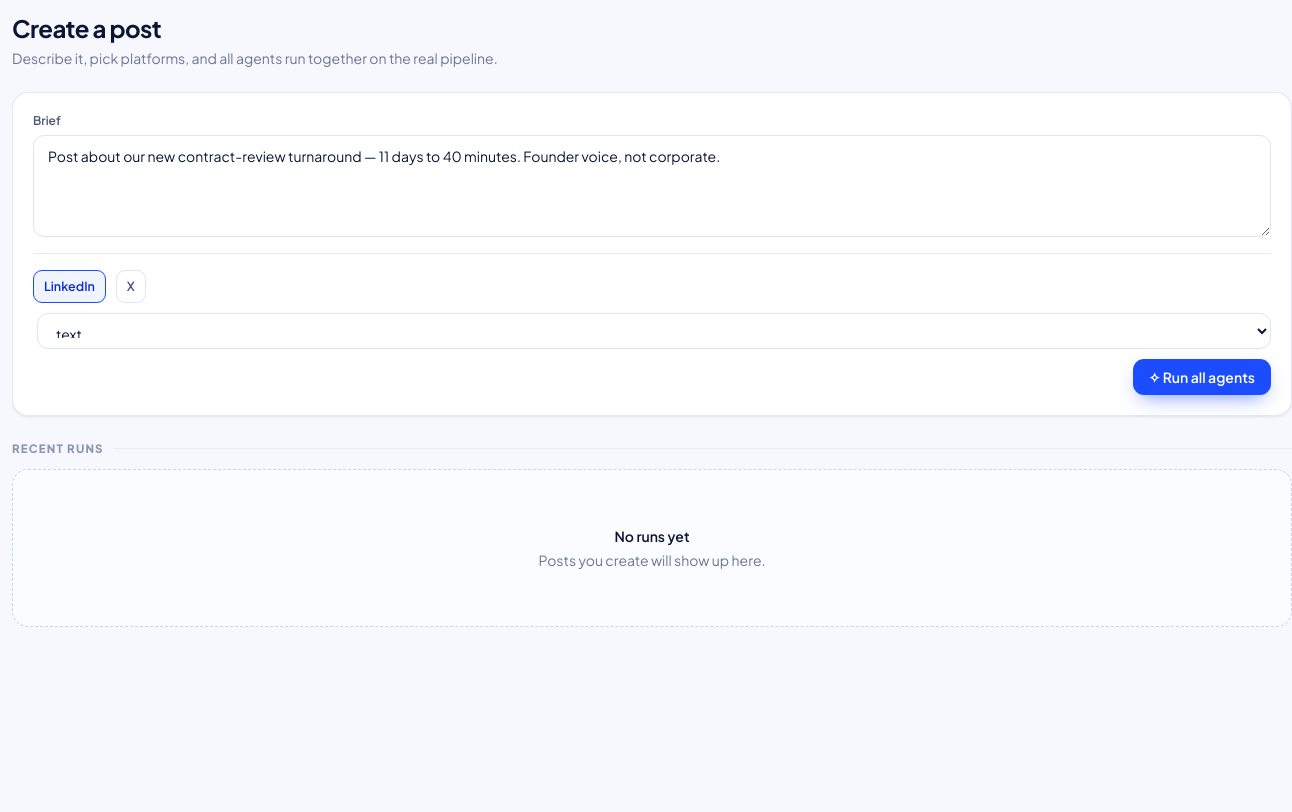
Test: CreatePostPage › requires at least one platform before queuing
LinkedIn starts selected by default — deselect it to leave none.
Click the button "LinkedIn" at (69, 286), box [33,270,106,303]
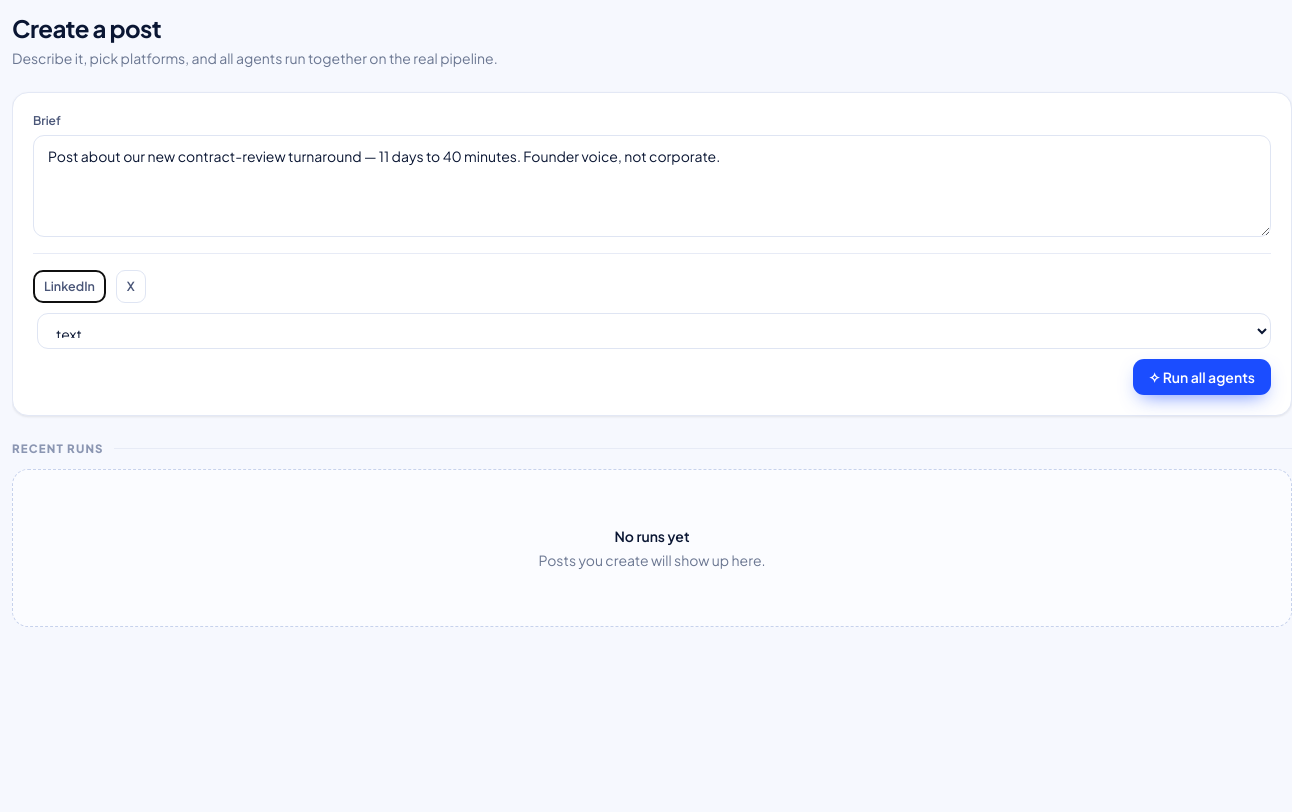
Click the button "✧ Run all agents" at (1202, 377), box [1132,359,1271,395]
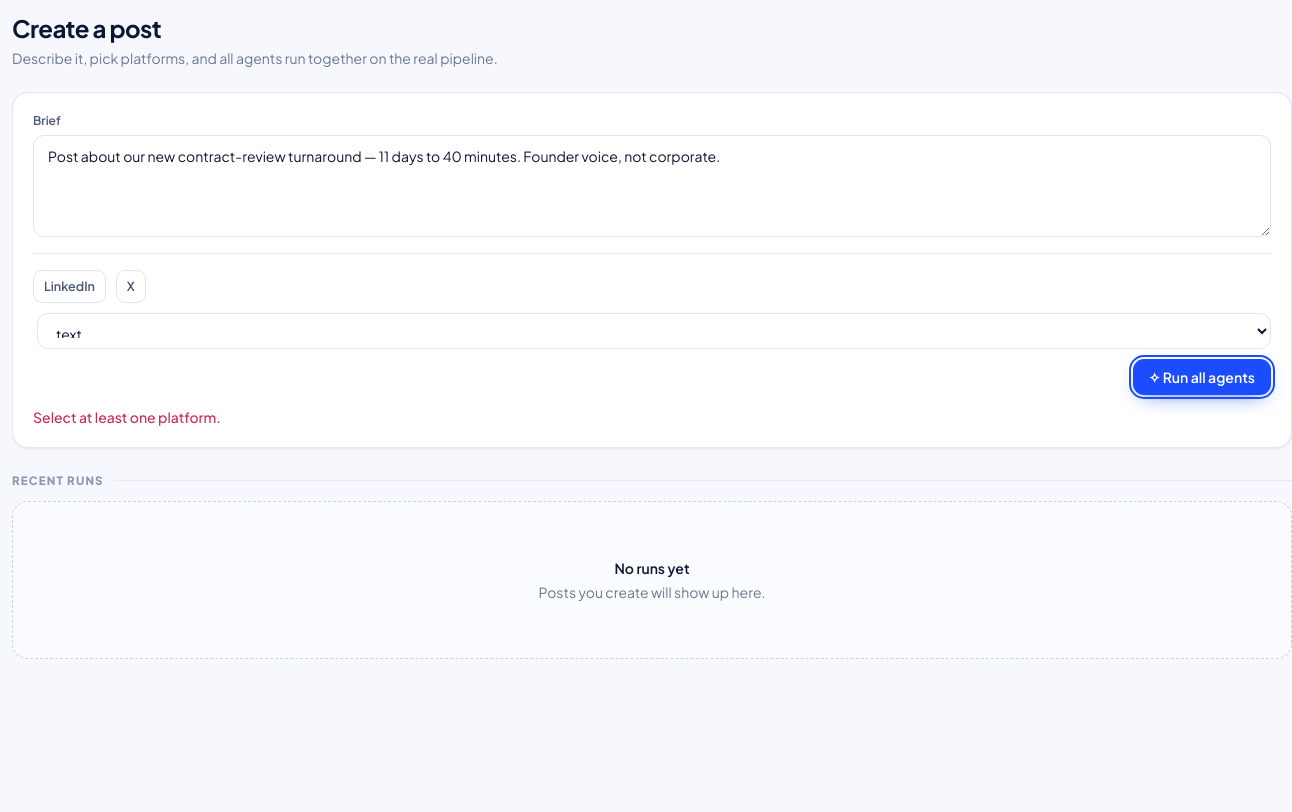
expect the text "Select at least one platform." is shown: met, box [33,408,221,426]
